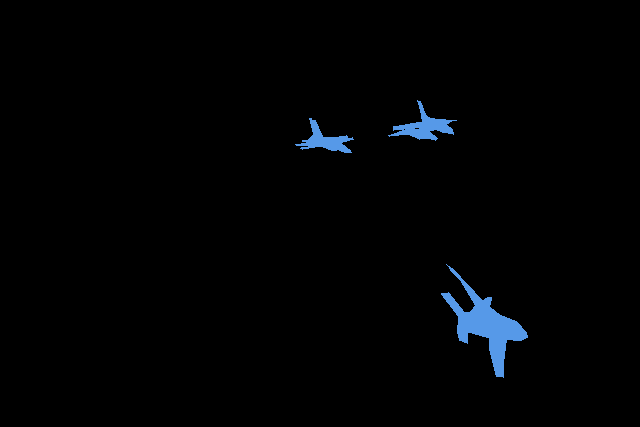Airplane: (441, 264, 527, 378), (393, 100, 457, 134), (295, 118, 353, 153), (388, 127, 438, 140)
